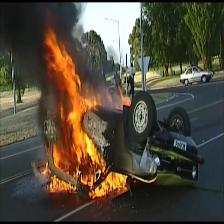fire: (38, 19, 147, 210)
smoke: (0, 1, 122, 119)
